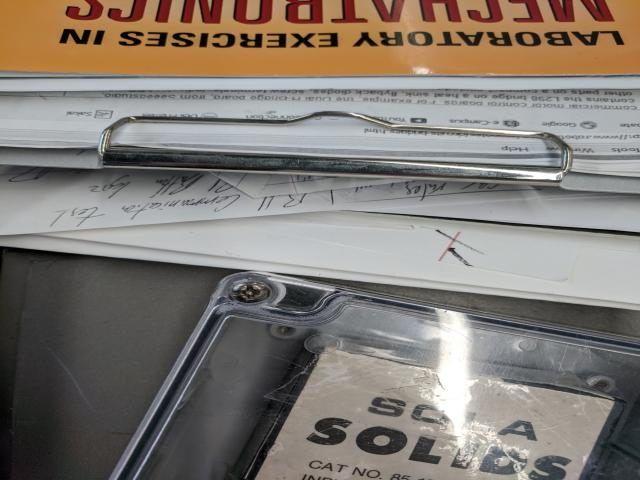CRS: (230, 280, 270, 303)
